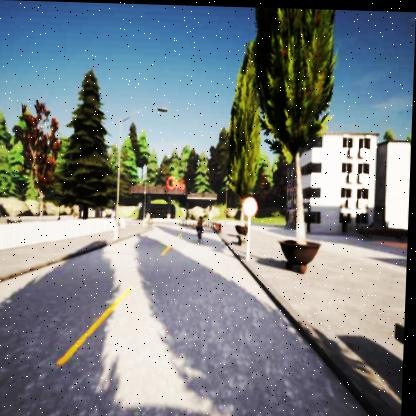motobike: (197, 214, 207, 240)
